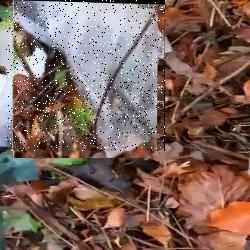plastic: (6, 0, 165, 151)
